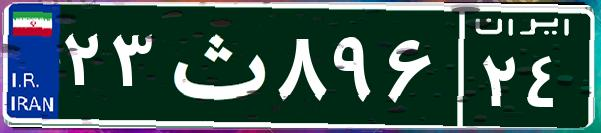2: (57, 26, 110, 107), (475, 38, 525, 113)
3: (110, 28, 158, 105)
4: (525, 38, 570, 115)
6: (385, 28, 445, 110)
8: (273, 28, 330, 110)
9: (330, 28, 385, 110)
ث: (158, 15, 273, 115)
